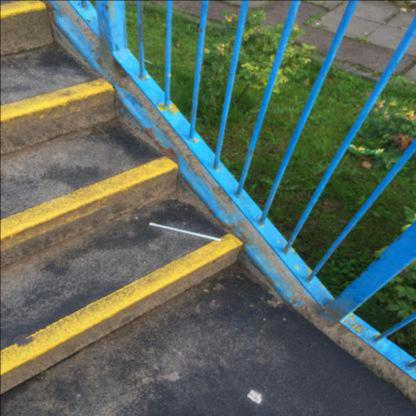Straw: (149, 222, 221, 242)
Unlabeled litter: (247, 390, 261, 404)
